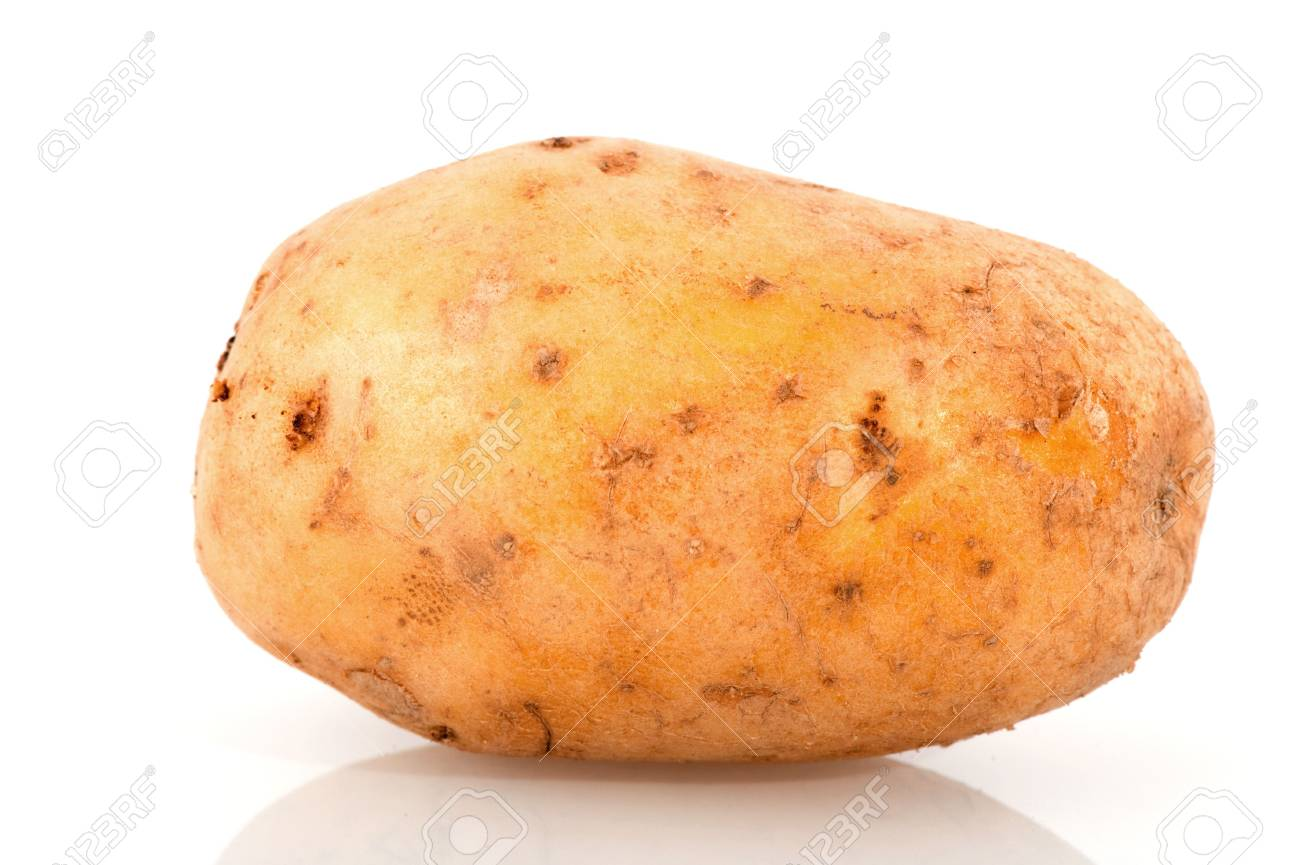potato rotten: (168, 142, 1196, 820)
